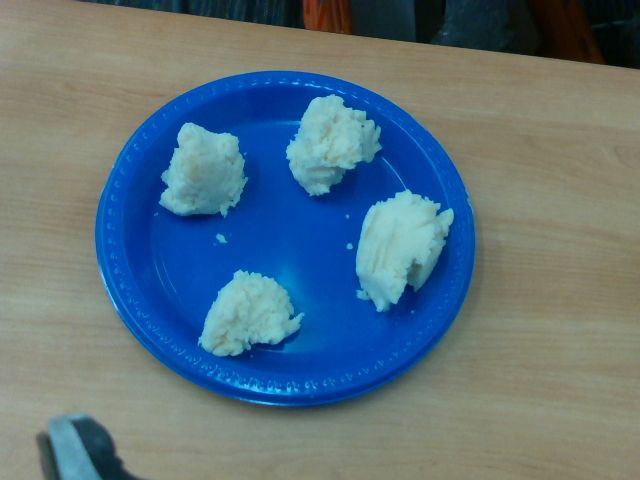mashed_potato: (356, 189, 453, 311), (286, 94, 381, 196), (198, 269, 304, 357), (160, 122, 247, 218)
